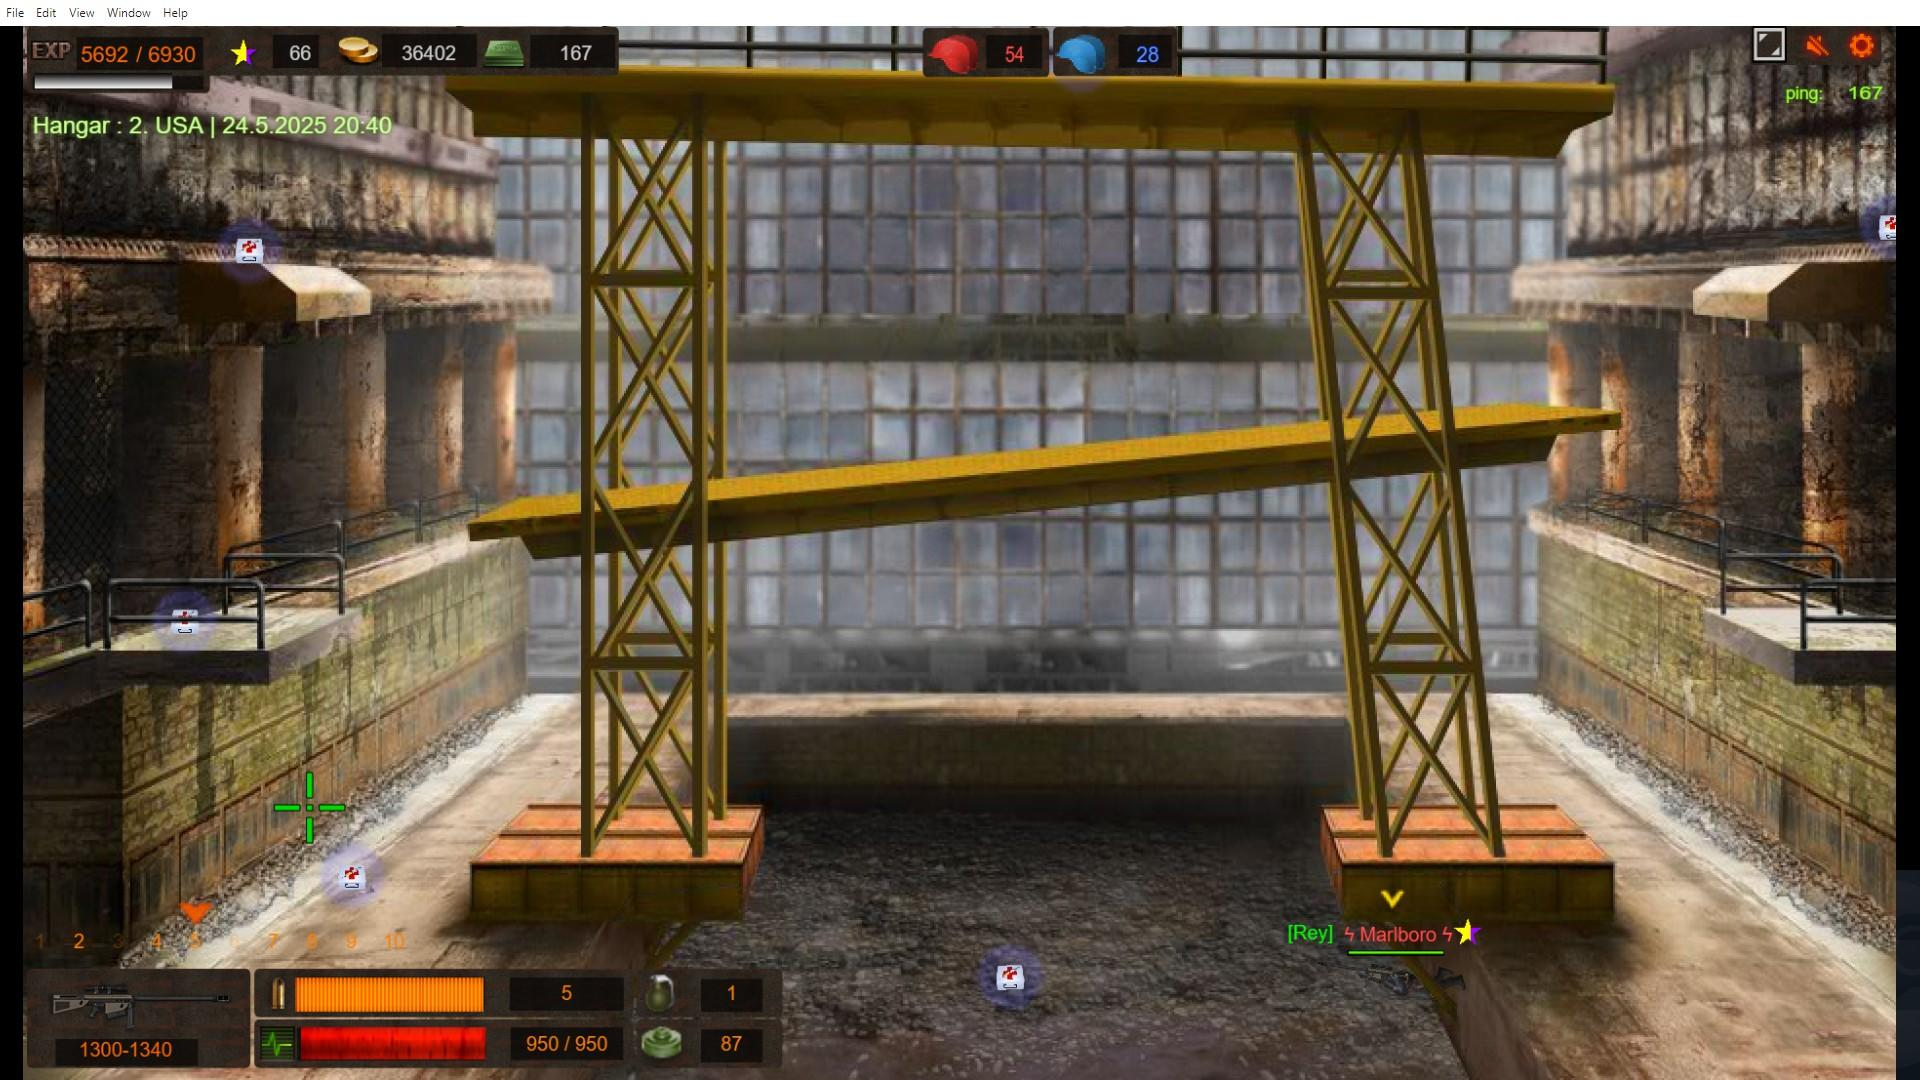enemy: (1361, 959, 1466, 996)
